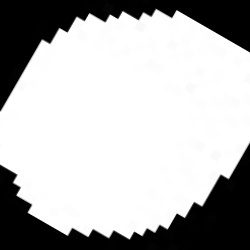spot: (1, 9, 248, 240)
